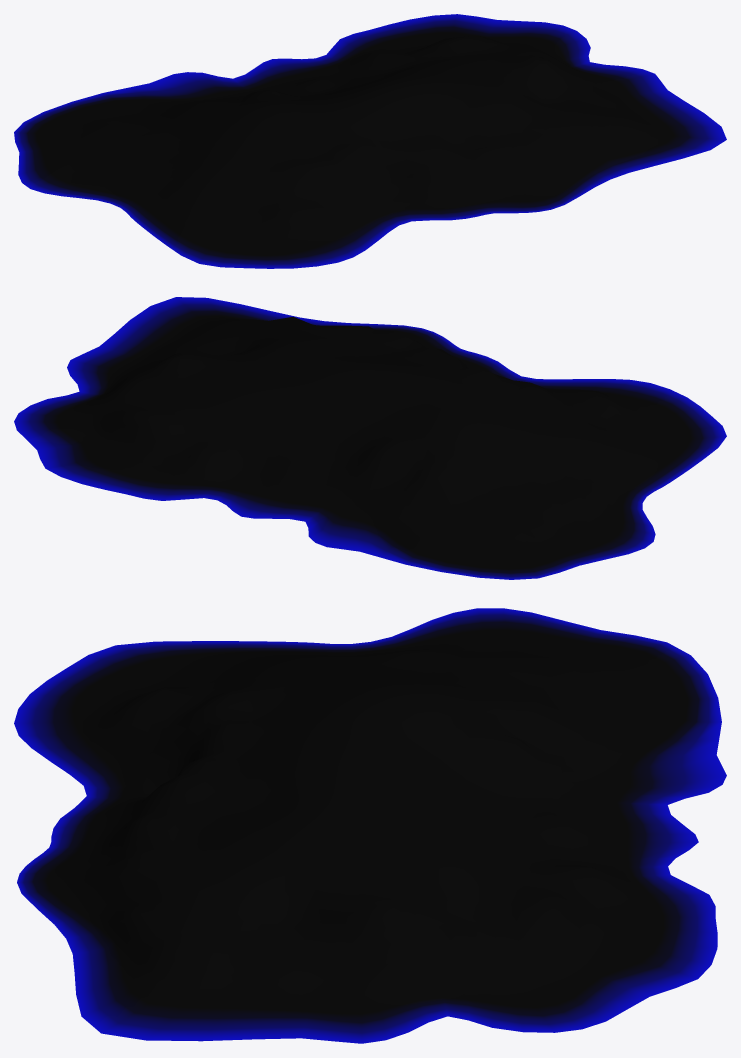
File: Rubble_Pile_BrickBig.FBX
3 views of the same model, one above another, from view 1: azimuth 30°, elevation 25°; view 2: azimuth 150°, elevation 25°; view 3: azimuth 270°, elevation 25° (orthographic). The views are drawn at different scales.
Parts seen in each view (by area): view 1: RubblePile_BrickBig; view 2: RubblePile_BrickBig; view 3: RubblePile_BrickBig.
Part boxes in pixels (<box>): RubblePile_BrickBig: <box>14,14,726,268</box>; RubblePile_BrickBig: <box>14,297,726,579</box>; RubblePile_BrickBig: <box>14,608,726,1043</box>.
Bounding box in the file's own units: 3117 × 267 × 2156.
